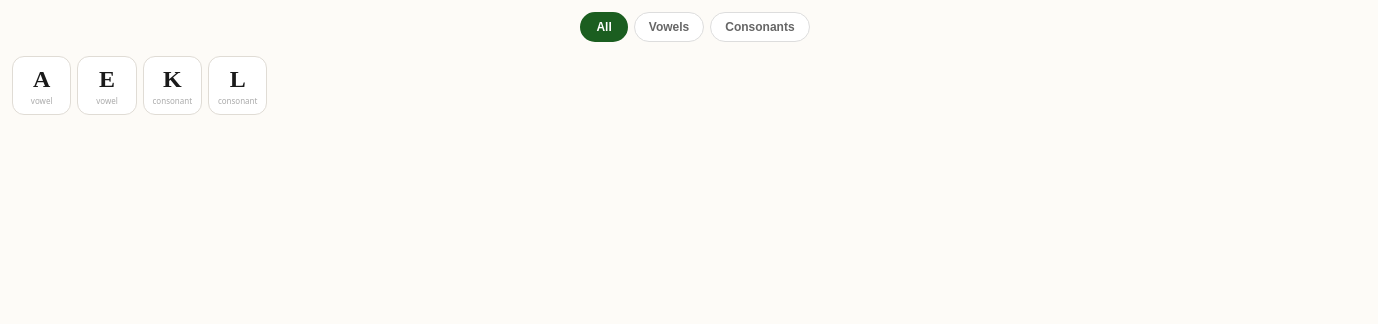
AlphabetGrid › shows detail fields after clicking a letter
Click the button with aria-label "A,".
click(42, 86)  # box [12,56,71,115]
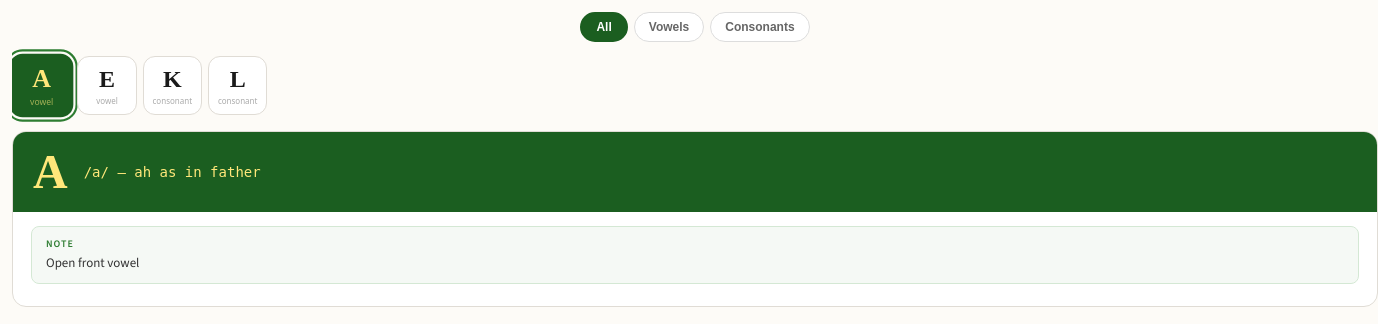
Now the text "Open front vowel" is shown, box [46,254,139,271]
